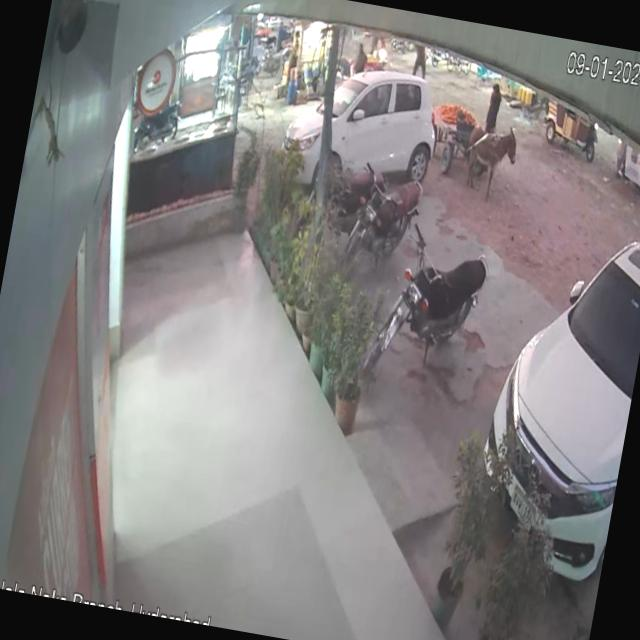Car: (459, 173, 640, 597), (256, 37, 452, 194)
Motorcycle: (360, 206, 506, 398), (347, 160, 432, 268)
